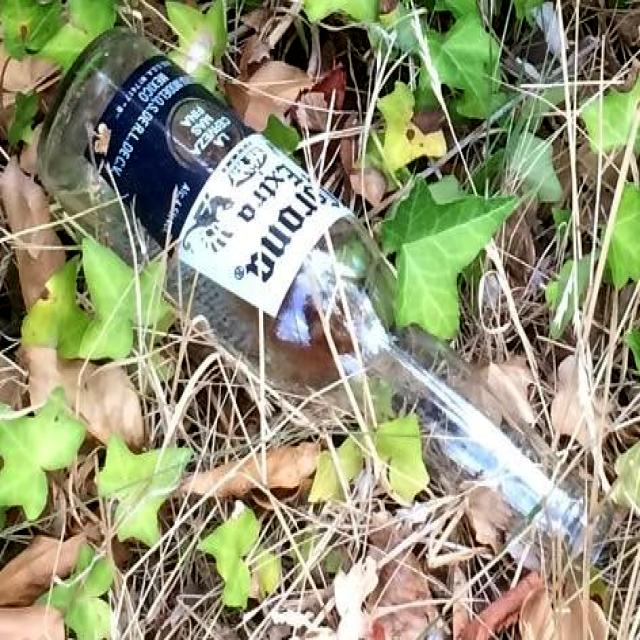Glass: (16, 5, 629, 598)
